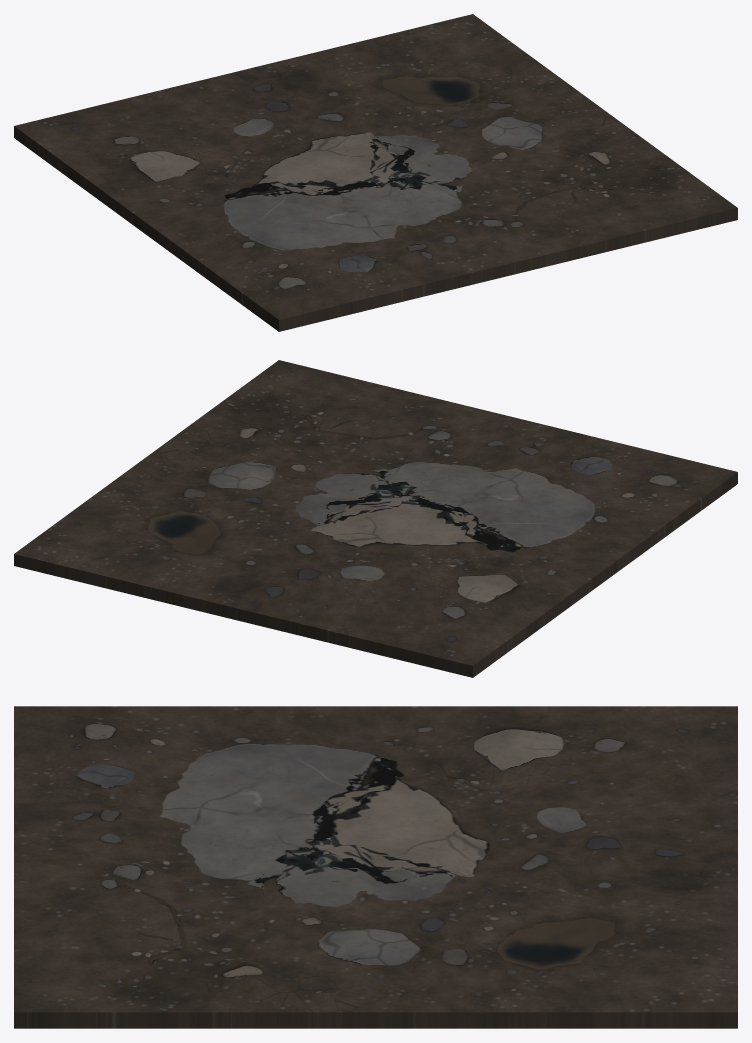
The model's file is cavern_floor_b.glb.
The picture shows the model from 3 angles, top to bottom: view 1: azimuth 30°, elevation 25°; view 2: azimuth 150°, elevation 25°; view 3: azimuth 270°, elevation 25°; orthographic projection. The views are drawn at different scales.
Parts seen in each view (by area): view 1: cavern_floor_b; view 2: cavern_floor_b; view 3: cavern_floor_b.
Boxes of the visible parts, x1,y1,x2,y2 form: cavern_floor_b: (14, 14, 737, 331); cavern_floor_b: (14, 360, 737, 677); cavern_floor_b: (14, 706, 737, 1028).
Bounding box in the file's own units: 4 × 0.14 × 4.
Materials: 1 (1 with a texture image).
